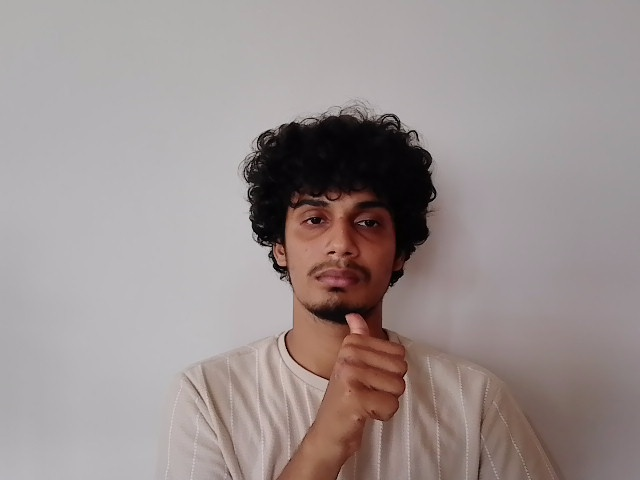not: (294, 287, 419, 426)
